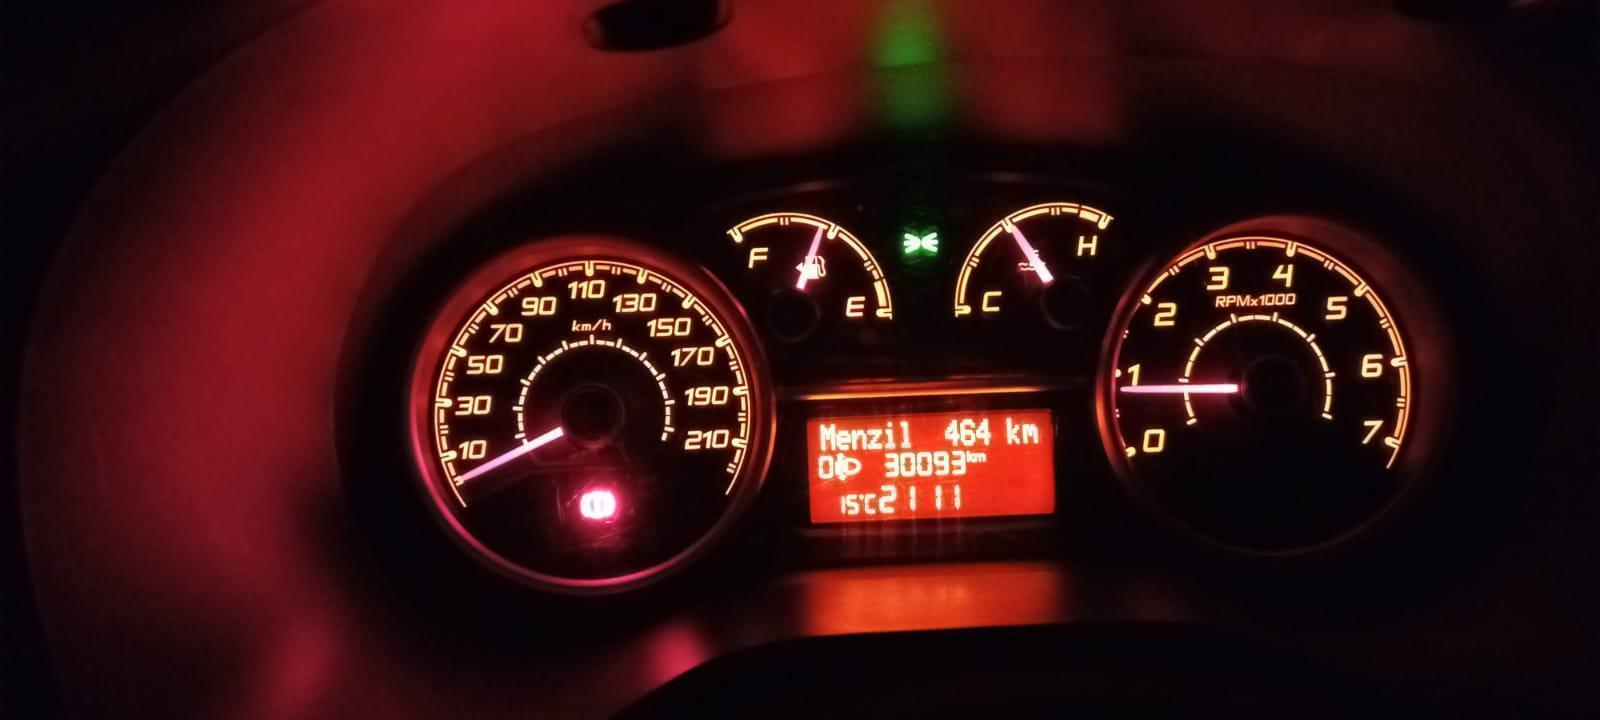0: (816, 454, 834, 479), (899, 451, 915, 477), (916, 450, 931, 477)
1: (933, 483, 943, 512), (908, 484, 918, 512), (953, 482, 962, 511), (840, 494, 845, 514)
2: (879, 484, 896, 514)
3: (883, 451, 899, 478), (951, 449, 966, 476)
4: (944, 417, 959, 447), (976, 416, 991, 446)
5: (846, 492, 860, 515)
6: (959, 417, 976, 447)
9: (933, 449, 950, 477)
X: (1004, 415, 1021, 444), (819, 422, 836, 451), (899, 420, 913, 448), (884, 420, 897, 449), (850, 428, 867, 450), (1022, 423, 1040, 445), (866, 427, 883, 450), (835, 429, 850, 451), (864, 492, 876, 514), (974, 451, 987, 463), (965, 450, 976, 463)
odometer: (800, 406, 1060, 530)
